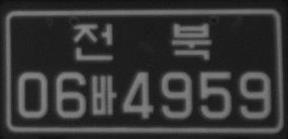0: (16, 70, 48, 119)
4: (122, 71, 154, 119)
5: (199, 70, 232, 119)
6: (55, 71, 86, 119)
9: (160, 71, 193, 119), (239, 71, 272, 119)
바: (90, 75, 116, 116)
전북_D: (72, 21, 212, 60)
